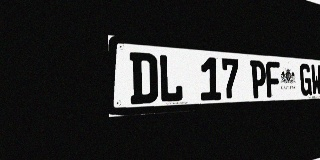1: (200, 57, 221, 101)
7: (220, 58, 240, 100)
D: (130, 52, 158, 104)
F: (266, 61, 281, 98)
G: (299, 63, 312, 96)
L: (158, 54, 183, 103)
P: (250, 60, 267, 98)
W: (311, 64, 320, 95)
